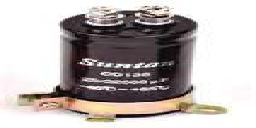Electrolytic-Capacitor: (55, 4, 203, 122)
